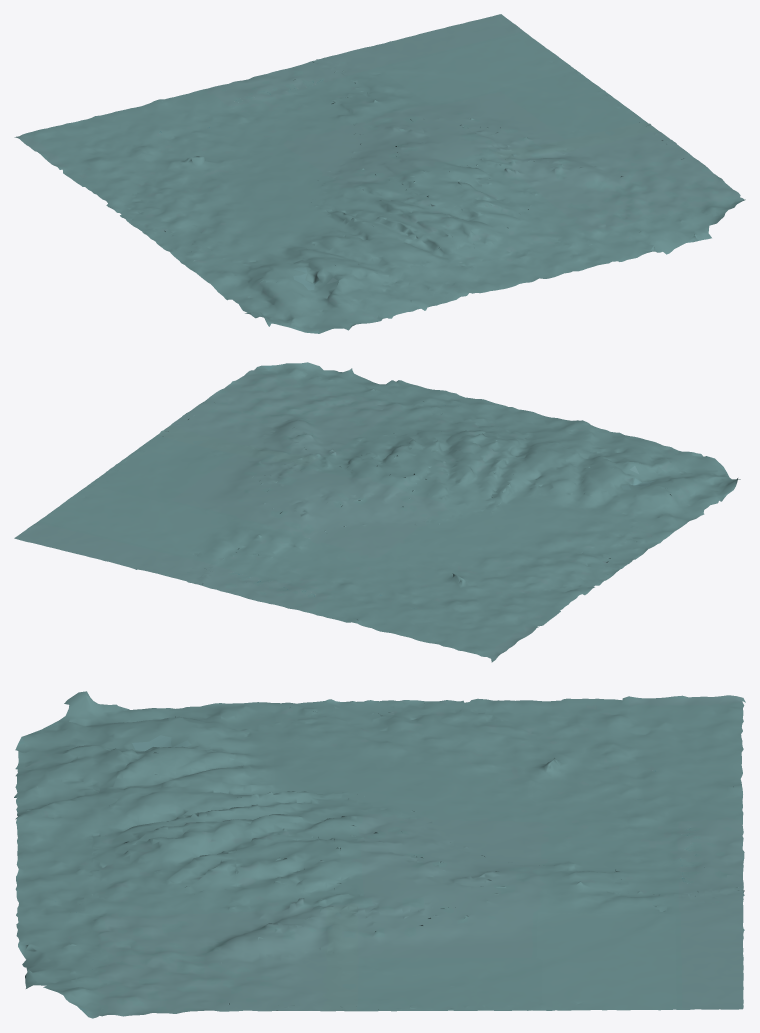
The model's file is rock-shelf.glb.
3 views of the same model, one above another, from view 1: azimuth 30°, elevation 25°; view 2: azimuth 150°, elevation 25°; view 3: azimuth 270°, elevation 25° (orthographic). The views are drawn at different scales.
Visible parts, largest first — view 1: rockreef-raw; view 2: rockreef-raw; view 3: rockreef-raw.
Boxes of the visible parts, x1,y1,x2,y2 form: rockreef-raw: (14,14,745,333); rockreef-raw: (14,362,740,662); rockreef-raw: (14,691,745,1018).
Size of the model in its own units: 60 by 3.2 by 58.48.
1 material, 1 textured.
